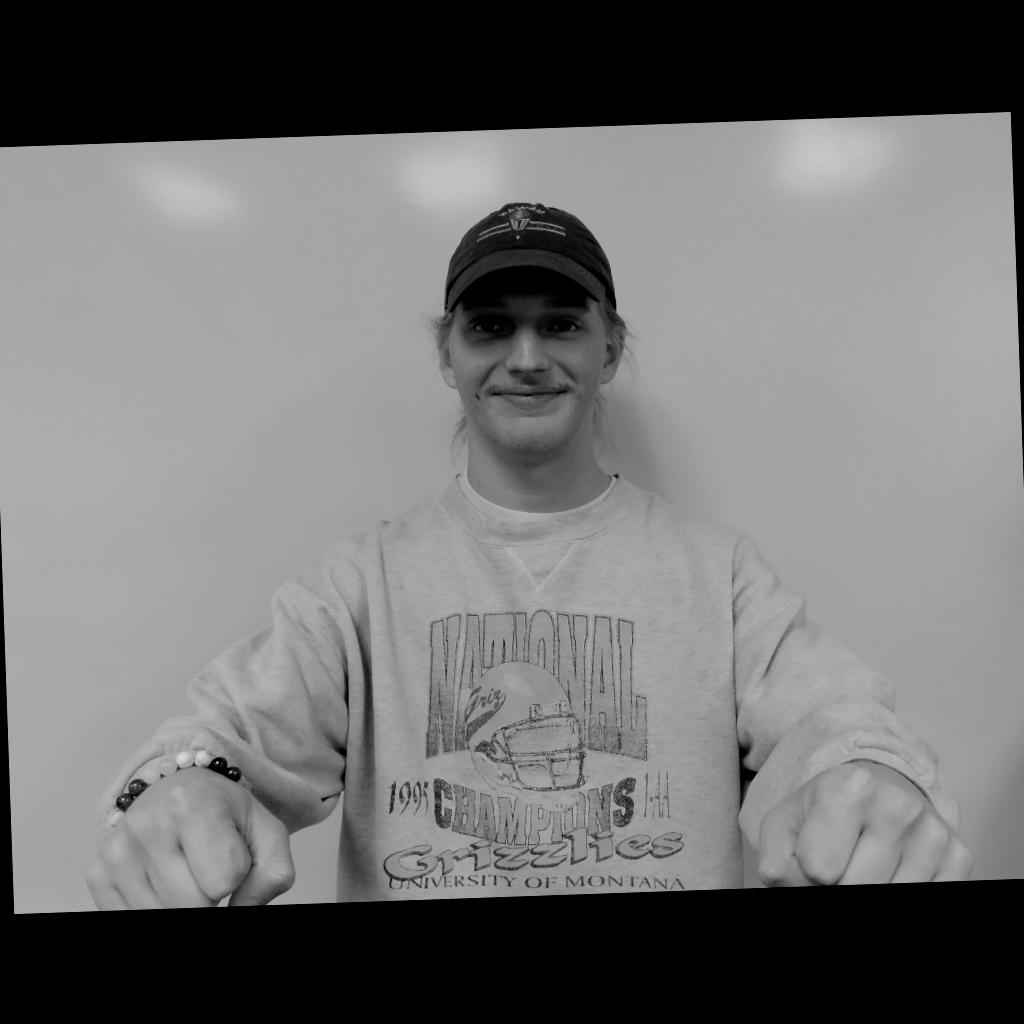can: (86, 736, 976, 910)
